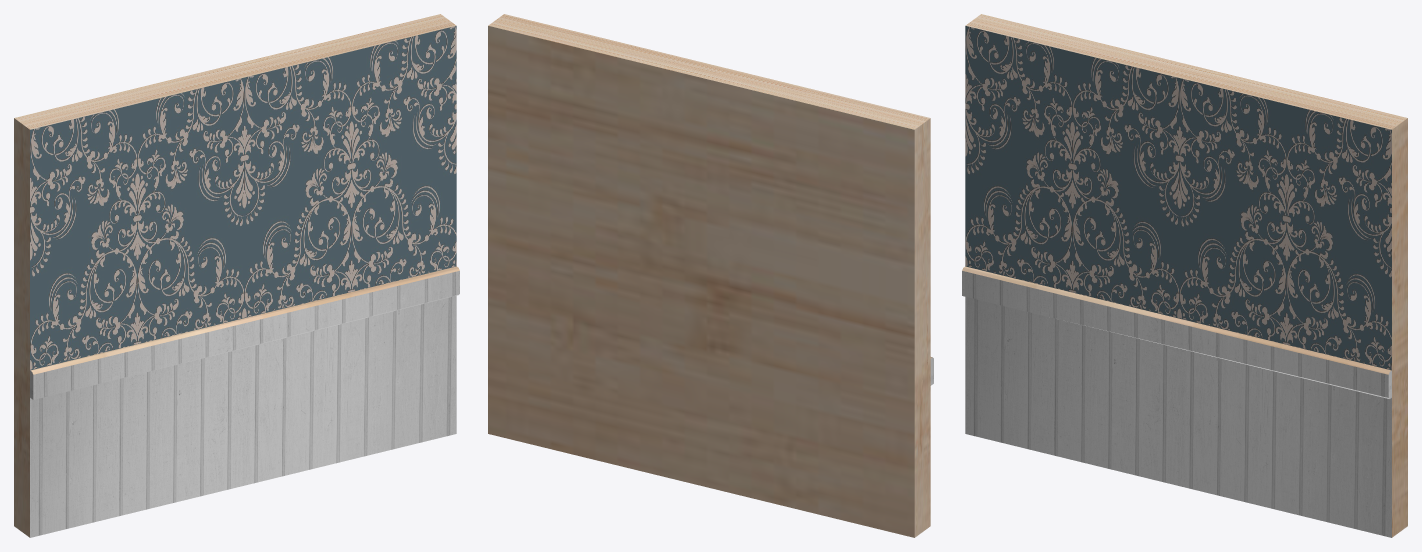
The model's file is Wall_Paneled(Blue).fbx.
3 views of the same model, side by side, from view 1: azimuth 30°, elevation 25°; view 2: azimuth 150°, elevation 25°; view 3: azimuth 330°, elevation 25° (orthographic).
Parts seen in each view (by area): view 1: InnerWall_Panel_Blue; view 2: InnerWall_Panel_Blue; view 3: InnerWall_Panel_Blue.
Part boxes in pixels (left/top/right/bottom): InnerWall_Panel_Blue: left=14, top=14, right=459, bottom=537; InnerWall_Panel_Blue: left=488, top=14, right=933, bottom=537; InnerWall_Panel_Blue: left=962, top=14, right=1407, bottom=537.
Size of the model in its own units: 3.94 by 3.61 by 0.3076.
Materials: 3 (3 with a texture image).
